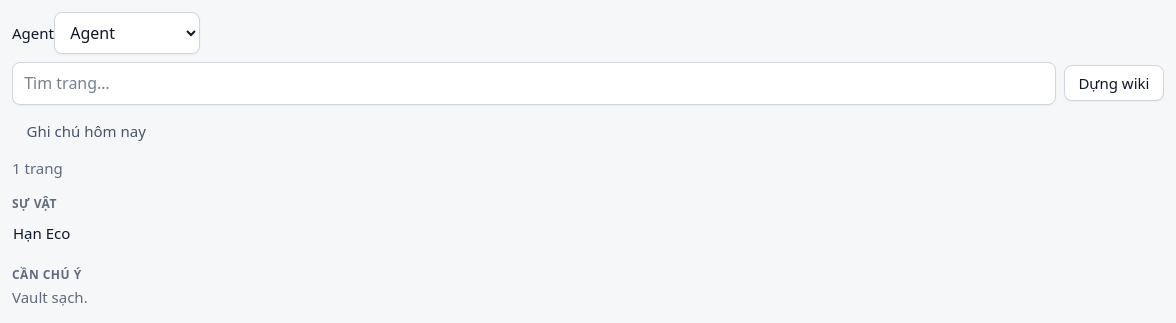
Test case: WikiSection › returns to the list after a confirmed delete, with the page gone
This screenshot has width=1176, height=323.
Click the button "Hạn Eco". click: (42, 233)
box: [12,215,71,251]
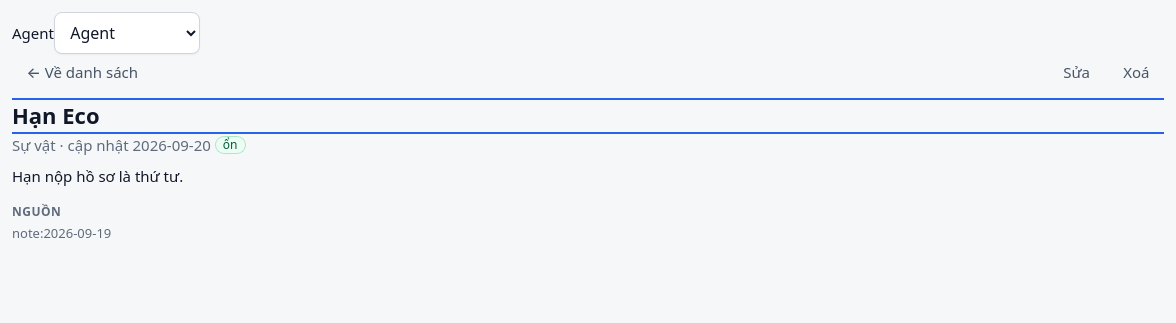
Click the button "Xoá". click: (1136, 72)
box: [1108,54,1164,90]
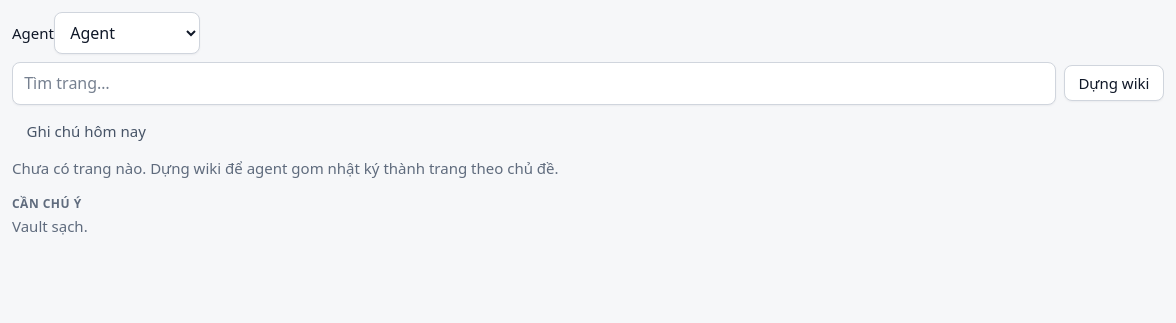
Result: the text "Chưa có trang nào. Dựng wiki để agent gom nhật ký thành trang theo chủ đề." is shown at [12,158,559,178]
